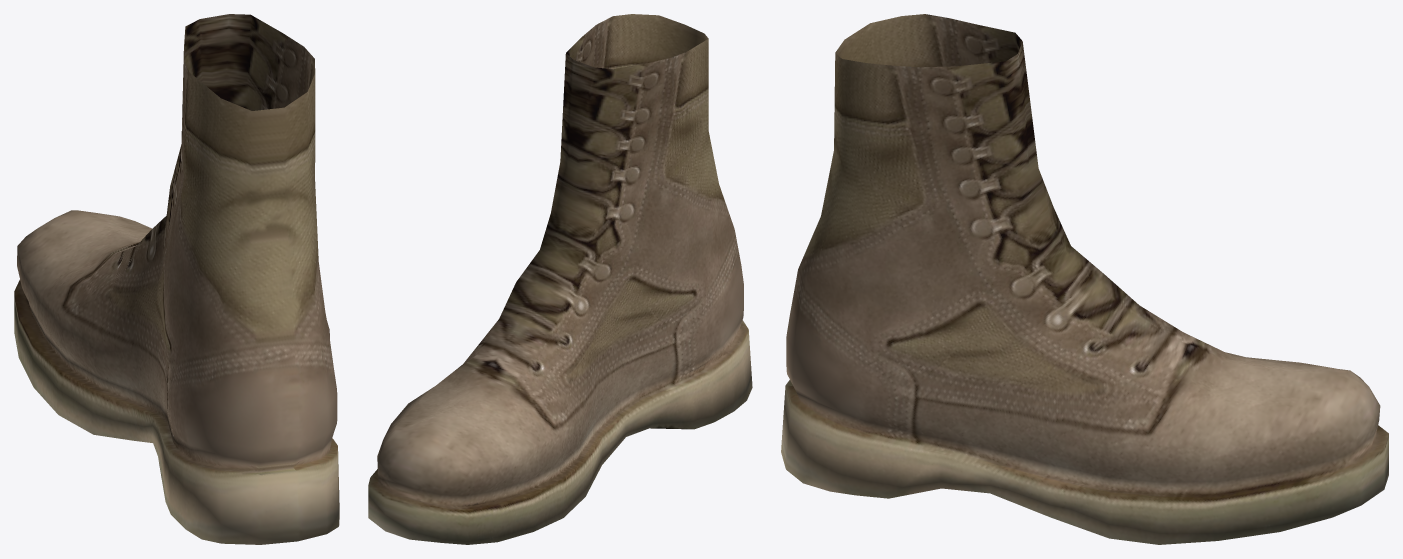
File: Boot.fbx
3 views of the same model, side by side, from view 1: azimuth 30°, elevation 25°; view 2: azimuth 150°, elevation 25°; view 3: azimuth 270°, elevation 25° (orthographic). The views are drawn at different scales.
Parts seen in each view (by area): view 1: Plane; view 2: Plane; view 3: Plane.
Part boxes in pixels (box(x1,y1,x2,y2)): Plane: box(14, 14, 339, 544); Plane: box(368, 14, 752, 544); Plane: box(781, 14, 1388, 544).
Size of the model in its own units: 3.37 by 6.77 by 8.36.
